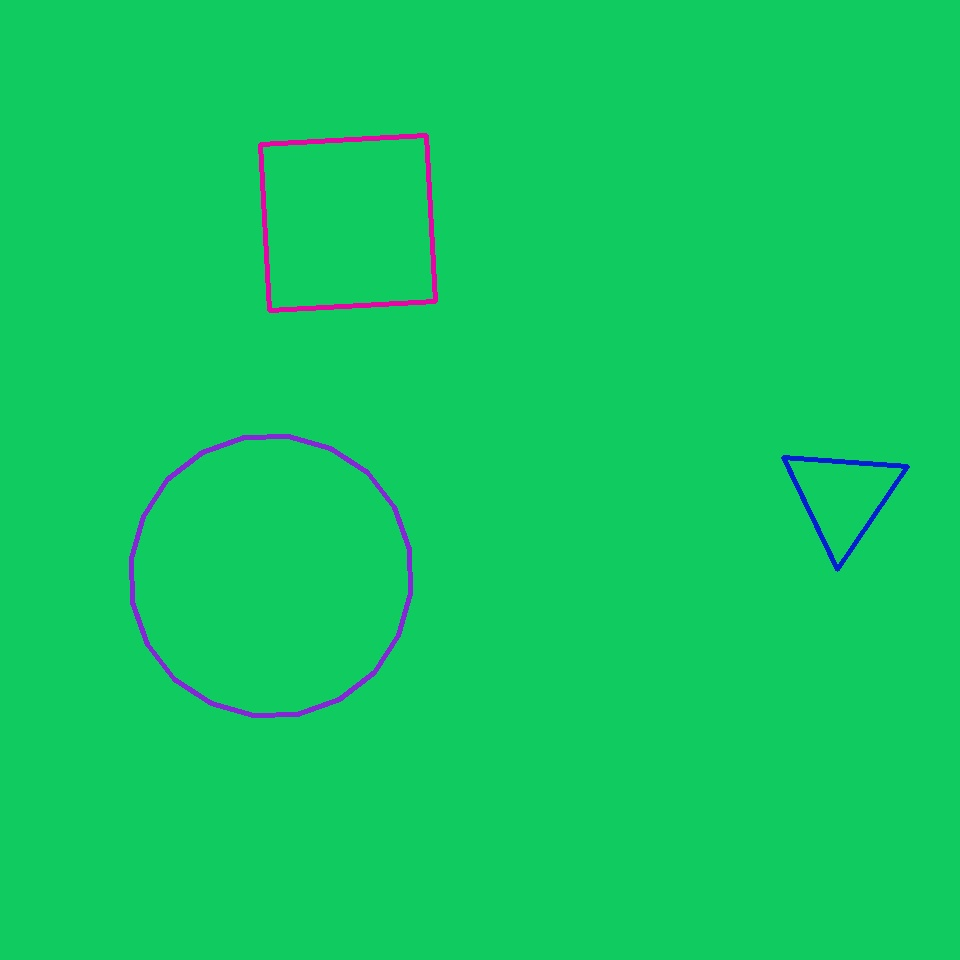circle: (781, 442, 905, 554)
square: (260, 136, 436, 310)
triangle: (132, 436, 410, 716)
